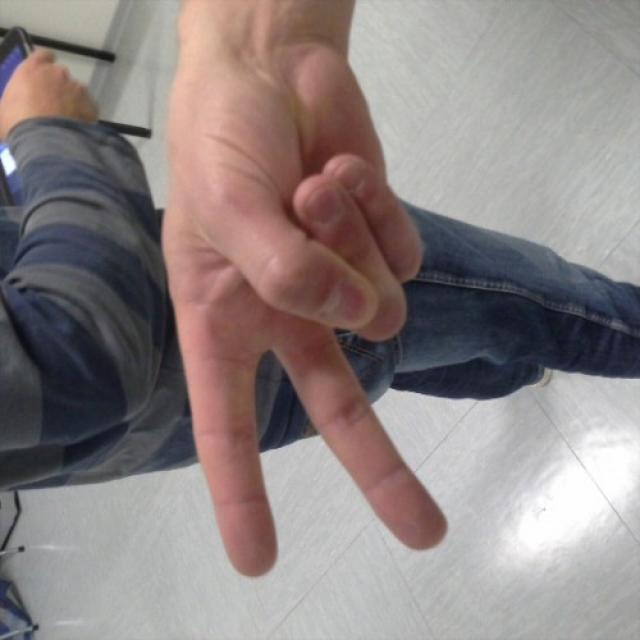scissors: (164, 138, 448, 578)
